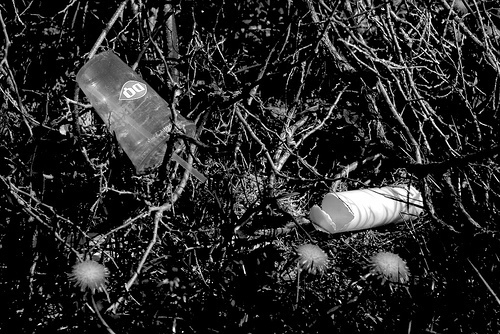litter: (75, 49, 194, 171), (312, 186, 424, 230)
